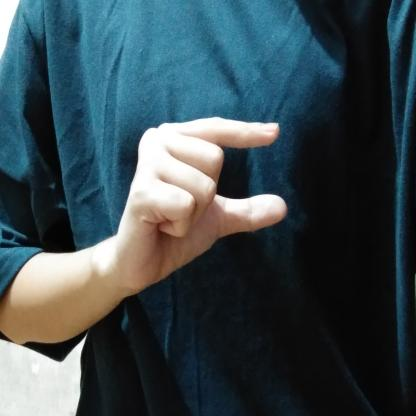small: (115, 110, 294, 305)
